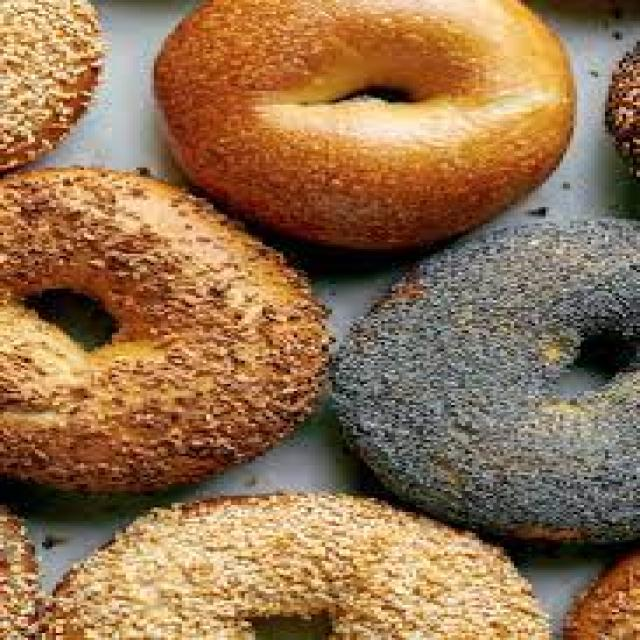Bagel: (2, 167, 331, 492), (154, 0, 573, 249), (334, 219, 639, 542), (45, 493, 550, 640)
